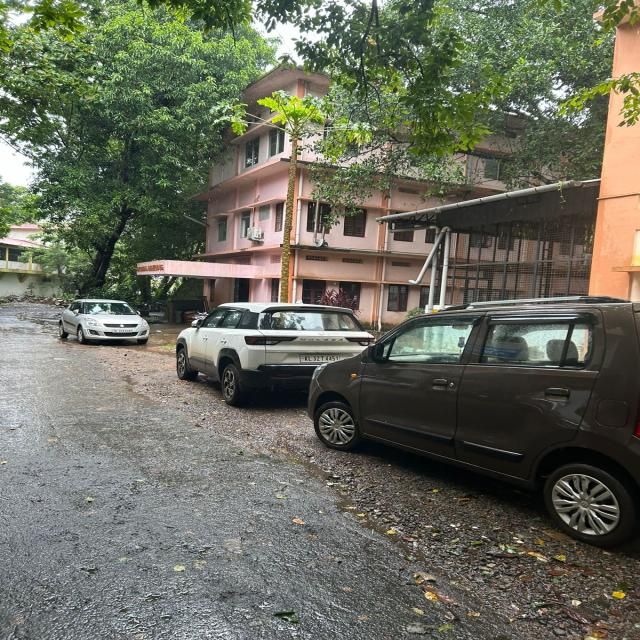car ahead at: (305, 297, 640, 536), (169, 301, 336, 394)
